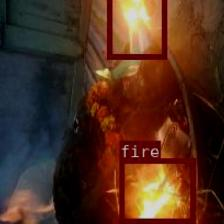fire: (118, 157, 194, 222), (106, 0, 166, 58)
